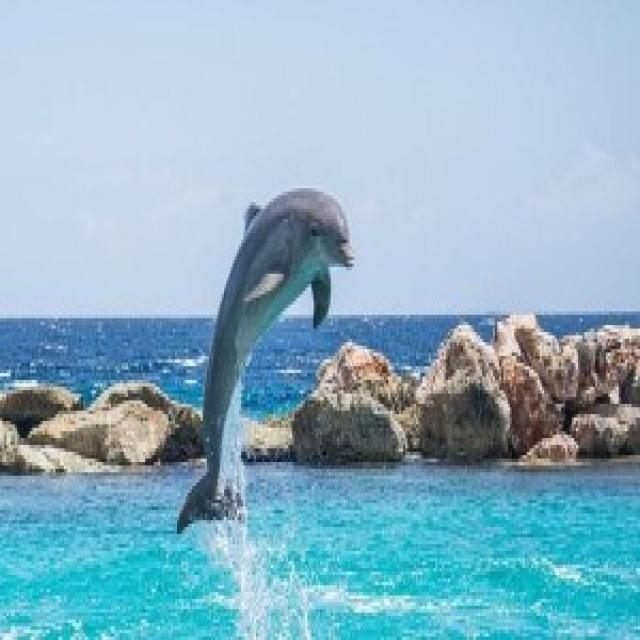Dolphin: (157, 178, 359, 542)
